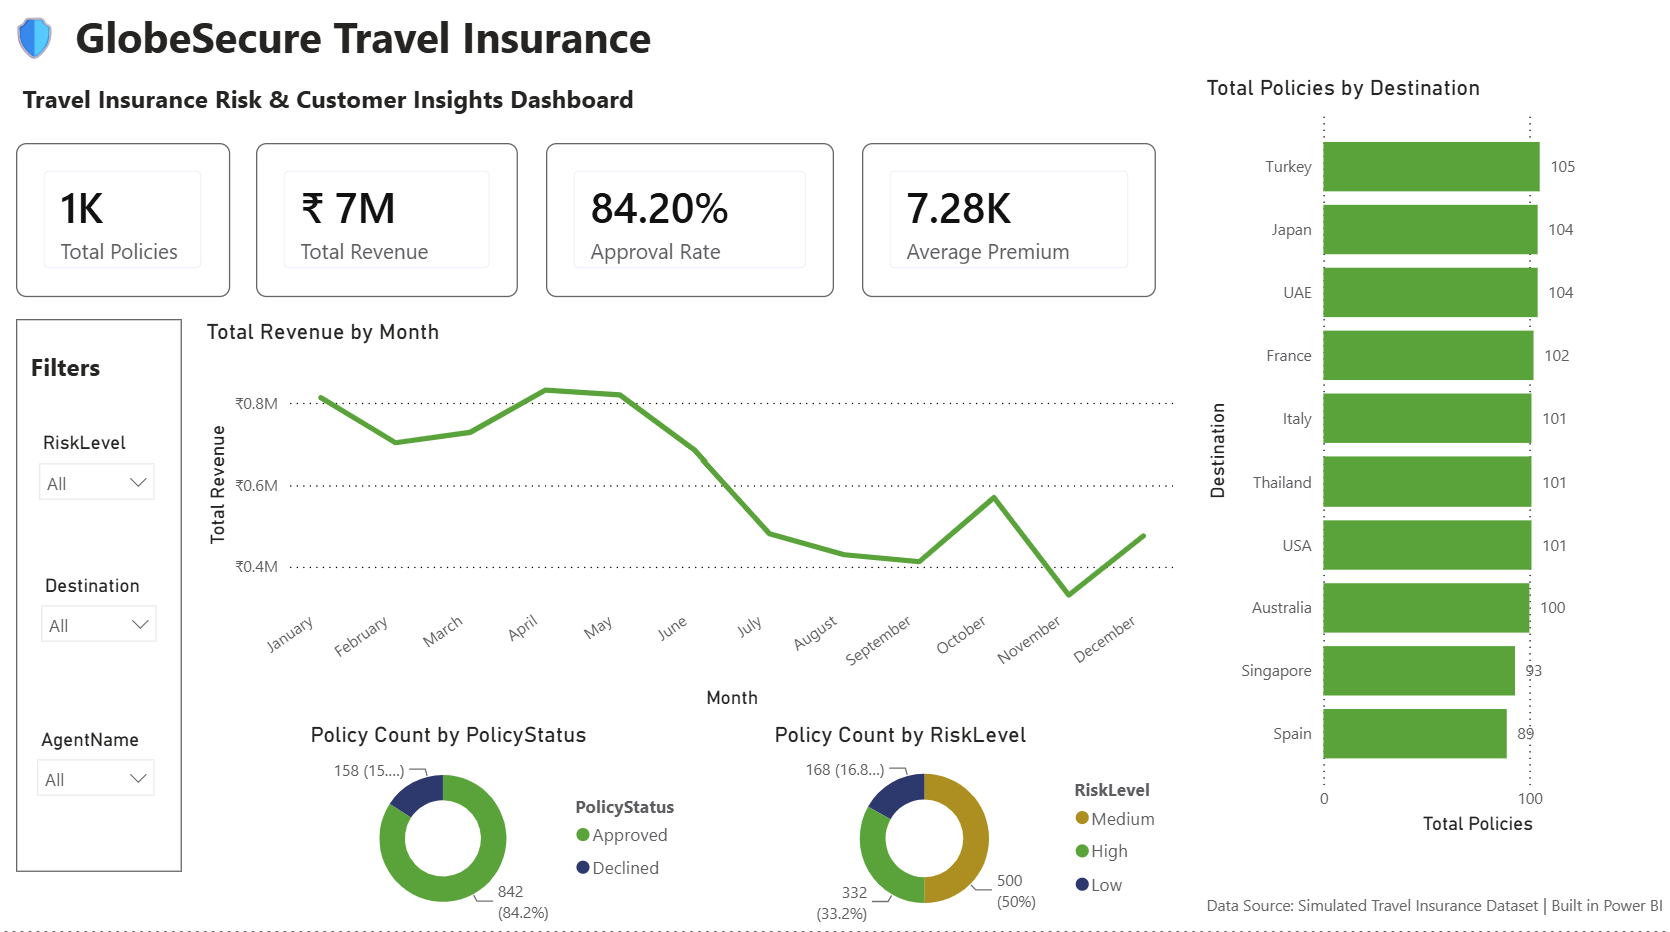

The dashboard page shown, as its layout file describes it:
{"tool":"powerbi","page":{"name":"Executive Overview","canvas":[1280,720],"ordinal":0},"visuals":[{"type":"cardVisual","fields":{"Data":["Policies.Total Policies"]},"box":[12.2,117.9,163.8,117.9],"z":0},{"type":"cardVisual","fields":{"Data":["Policies.Total Revenue"]},"box":[196,117.9,200.6,117.9],"z":1000},{"type":"cardVisual","fields":{"Data":["Policies.Approval Rate"]},"box":[418,117.9,220.5,117.9],"z":2000},{"type":"cardVisual","fields":{"Data":["Policies.Average Premium"]},"box":[659.9,117.9,225.1,117.9],"z":3000},{"type":"lineChart","fields":{"Category":["Policies.PurchaseDate.Variation.Date Hierarchy.Year","Policies.PurchaseDate.Variation.Date Hierarchy.Month"],"Y":["Policies.Total Revenue"]},"box":[153.1,252.6,750.2,301.6],"z":4000},{"type":"clusteredBarChart","fields":{"Category":["Policies.Destination"],"Y":["Policies.Total Policies"]},"box":[918.7,65.8,346,584.9],"z":5000},{"type":"donutChart","fields":{"Category":["Policies.RiskLevel"],"Y":["Policies.Policy Count"]},"box":[587.9,560.4,315.4,159.2],"z":6000},{"type":"donutChart","fields":{"Category":["Policies.PolicyStatus"],"Y":["Policies.Policy Count"]},"box":[232.7,560.4,304.7,159.2],"z":7000},{"type":"textbox","box":[12.2,65.8,516,42.9],"z":8000},{"type":"textbox","box":[0,9.2,534.4,56.7],"z":9000},{"type":"shape","box":[12.2,252.6,127.1,422.6],"z":10000},{"type":"textbox","box":[18.4,271,81.1,49],"z":11000},{"type":"slicer","fields":{"Values":["Policies.RiskLevel"]},"box":[19.9,333.8,108.7,79.6],"z":12000},{"type":"slicer","fields":{"Values":["Policies.Destination"]},"box":[21.4,442.5,108.7,79.6],"z":13000},{"type":"slicer","fields":{"Values":["Policies.AgentName"]},"box":[18.4,560.4,110.2,90.3],"z":14000},{"type":"textbox","box":[918.7,685.9,362.9,33.7],"z":15000}]}

Visuals, with their boxes in screenshot pixels (x1, y1, x2, y2), scaled from the page's 1280x720 canvas onto the 1670x932 screenshot:
cardVisual - Policies.Total Policies: bbox(16, 153, 230, 305)
cardVisual - Policies.Total Revenue: bbox(256, 153, 517, 305)
cardVisual - Policies.Approval Rate: bbox(545, 153, 833, 305)
cardVisual - Policies.Average Premium: bbox(861, 153, 1155, 305)
lineChart - Policies.PurchaseDate.Variation.Date Hierarchy.Year x Policies.PurchaseDate.Variation.Date Hierarchy.Month: bbox(200, 327, 1179, 717)
clusteredBarChart - Policies.Destination x Policies.Total Policies: bbox(1199, 85, 1650, 842)
donutChart - Policies.RiskLevel x Policies.Policy Count: bbox(767, 725, 1179, 931)
donutChart - Policies.PolicyStatus x Policies.Policy Count: bbox(304, 725, 701, 931)
textbox: bbox(16, 85, 689, 141)
textbox: bbox(0, 12, 697, 85)
shape: bbox(16, 327, 182, 874)
textbox: bbox(24, 351, 130, 414)
slicer - Policies.RiskLevel: bbox(26, 432, 168, 535)
slicer - Policies.Destination: bbox(28, 573, 170, 676)
slicer - Policies.AgentName: bbox(24, 725, 168, 842)
textbox: bbox(1199, 888, 1669, 931)
